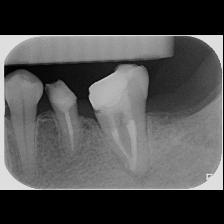apical_lesion: (89, 64, 163, 190)
